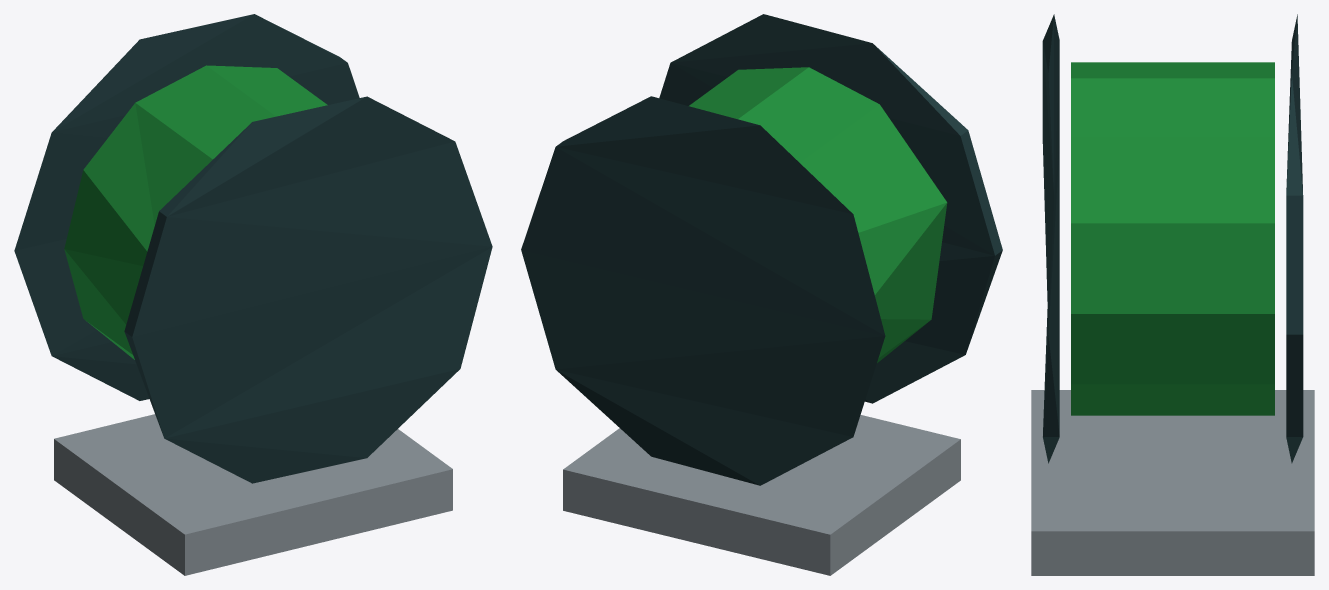
Rendered from hose_reel.fbx.
3 renders of one model, left to right at view 1: azimuth 30°, elevation 25°; view 2: azimuth 150°, elevation 25°; view 3: azimuth 270°, elevation 25°, orthographic. The views are drawn at different scales.
Visible parts, largest first — view 1: hose_reel; view 2: hose_reel; view 3: hose_reel.
Boxes of the visible parts, box(x1,y1,x2,y2) form: hose_reel: box(14, 14, 492, 575); hose_reel: box(521, 14, 1002, 575); hose_reel: box(1031, 14, 1314, 575).
Bounding box in the file's own units: 0.8 × 0.9 × 0.5.
